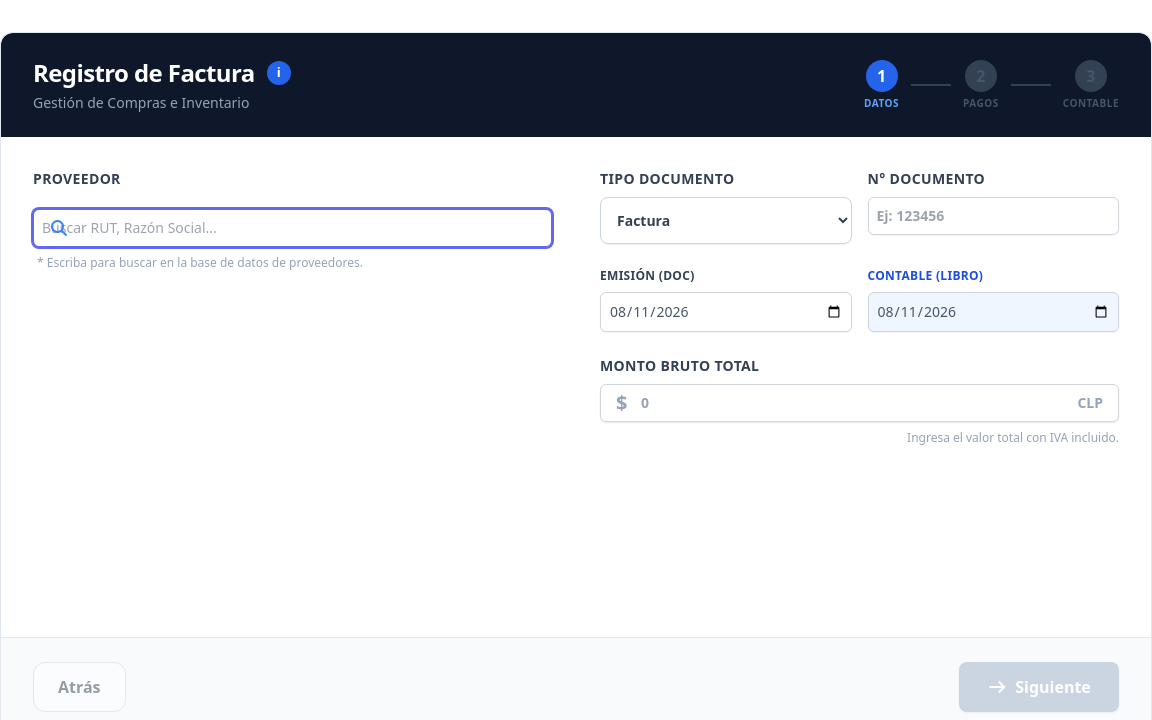
Scenario: RegistroFactura - tipo Nota de Credito (FIX: factura_referencia_id) › AL cambiar a Nota de Credito, aparece campo factura_referencia_id
This screenshot has width=1152, height=720.
Expected: the heading "Registro de Factura" is shown, [33,57,255,89]
Step 1. Select "Nota de Crédito" in the dropdown showing "Factura" → (726, 220), box [600,197,852,244]
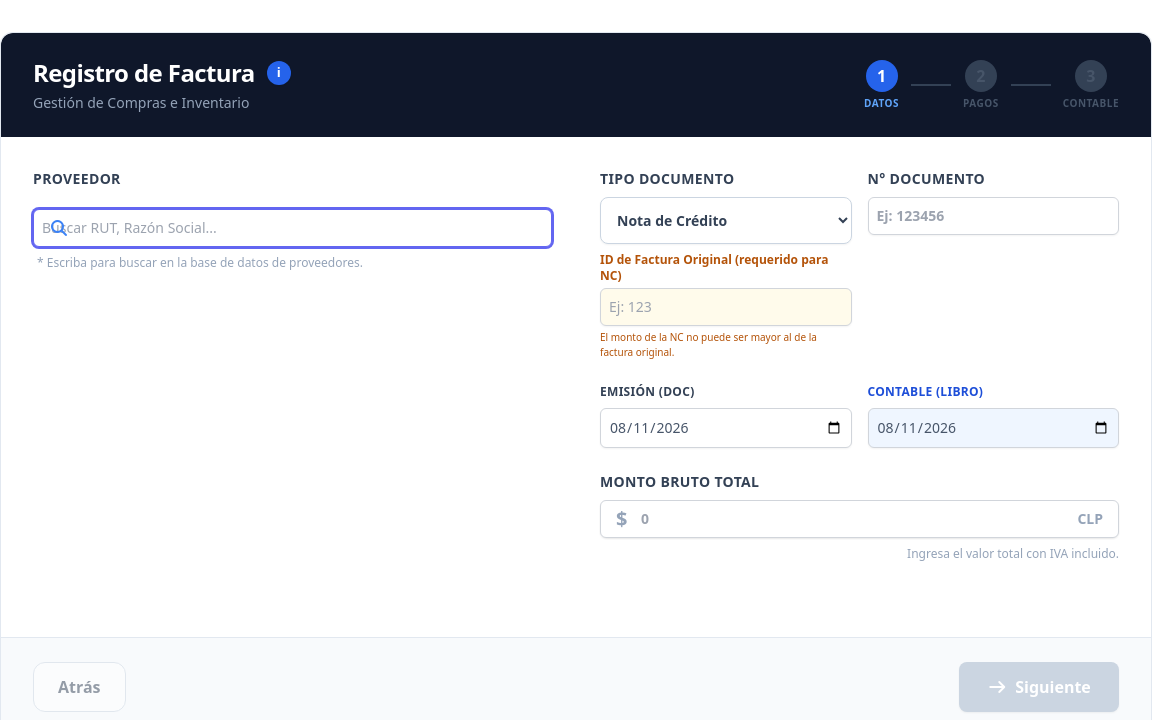
Expected: the text "ID de Factura Original (requerido para NC)" is shown, [600,252,852,284]
